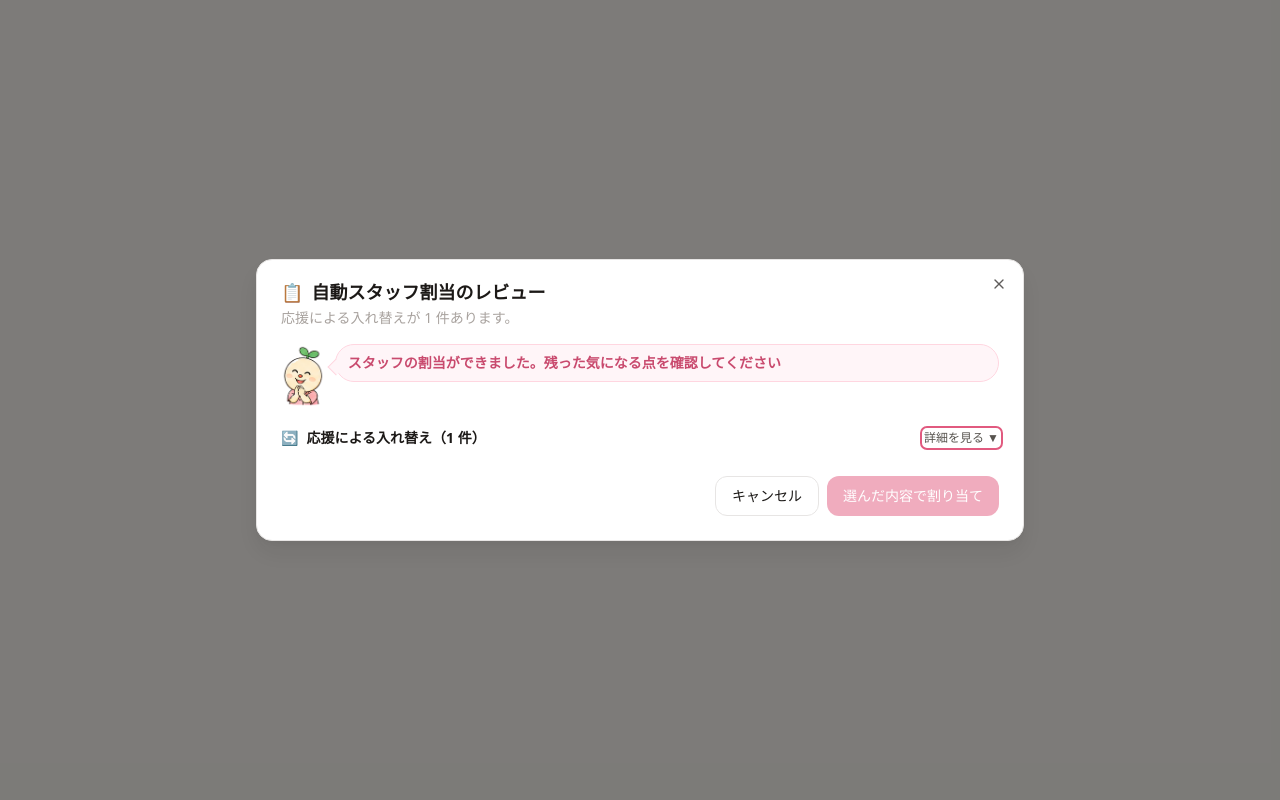
Test: AssignWarningDialog — 4段ソルバ Stage 2 + v2.0 新Stage 3 notices セクション › 「詳細を見る ▼」を押すと rescue_swap の before→after 行が表示される
Step 1. Click the button "詳細を見る ▼" → (962, 438), box [924,430,999,446]
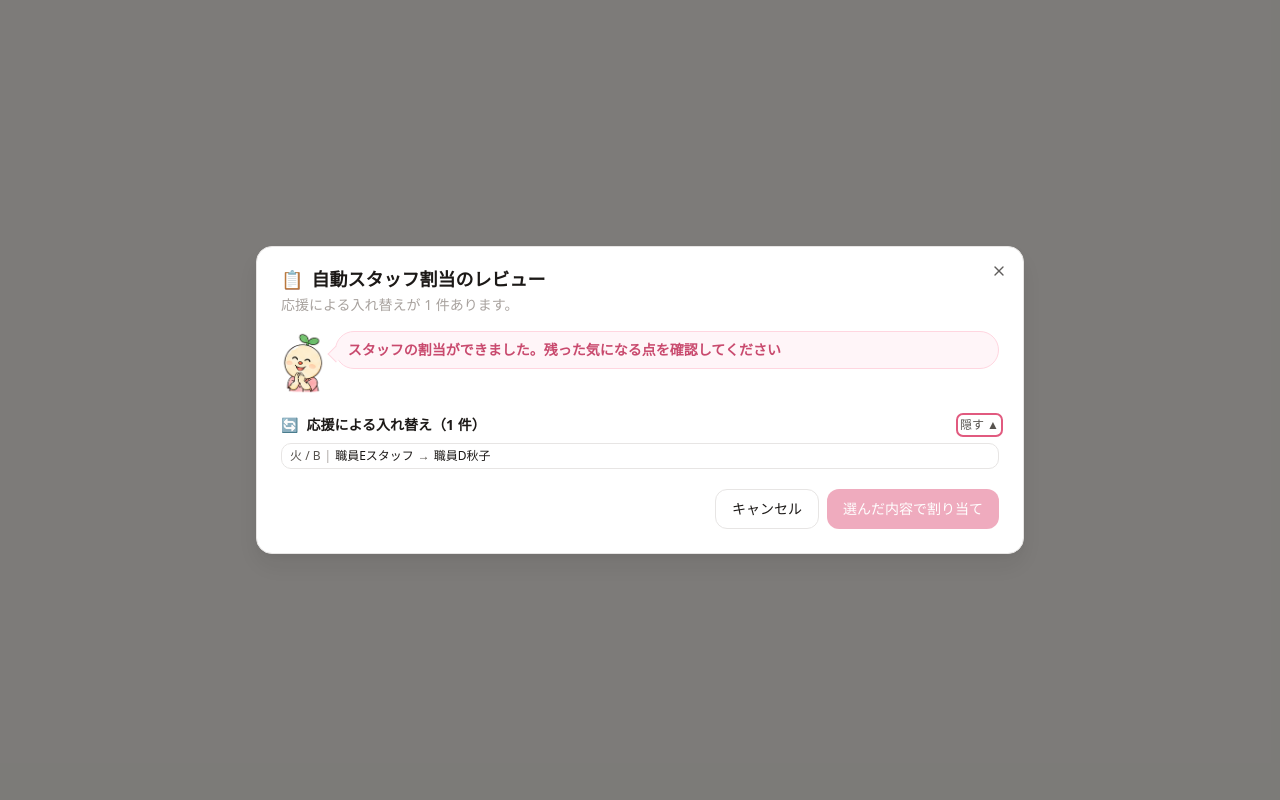
Check: the list item with test id "assign-rescue-swap-row" is shown, box [281,443,999,469]
Check: the list item with test id "assign-rescue-swap-row" shows "火", box [290,447,302,464]
Check: the list item with test id "assign-rescue-swap-row" shows "B", box [313,447,320,464]
